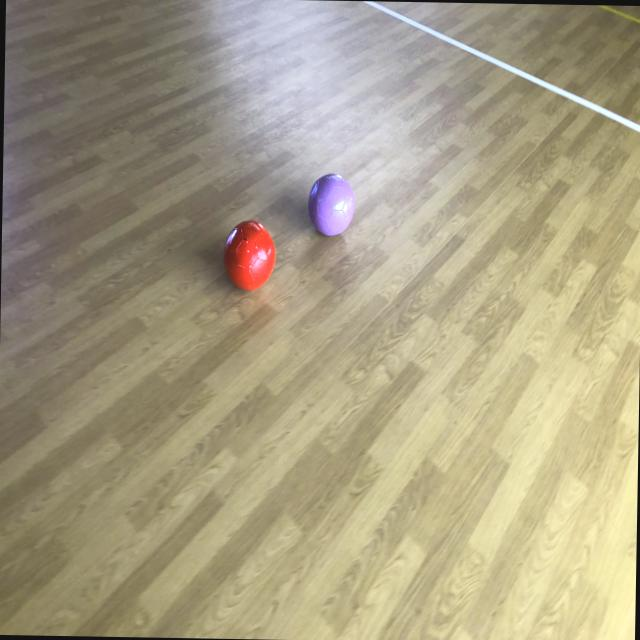purple_ball: (308, 172, 355, 236)
red_ball: (223, 219, 275, 290)
